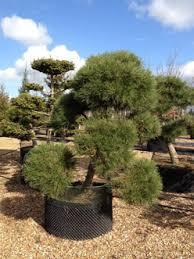tree: (26, 47, 171, 207)
